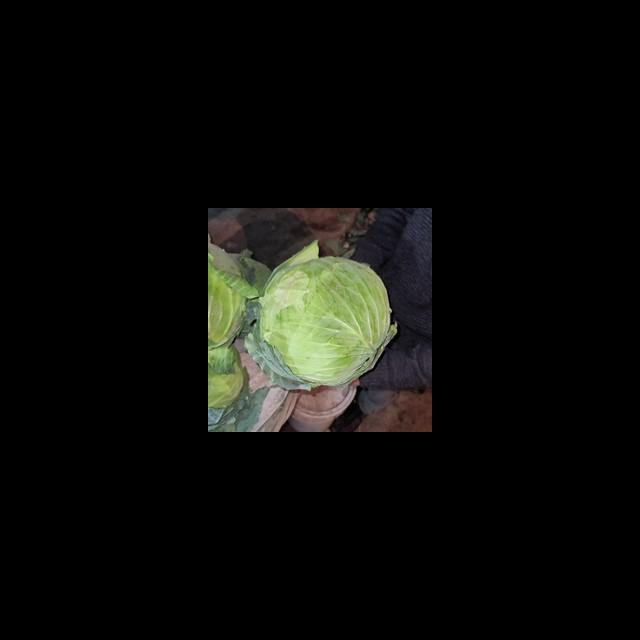cabbage: (246, 241, 397, 390)
